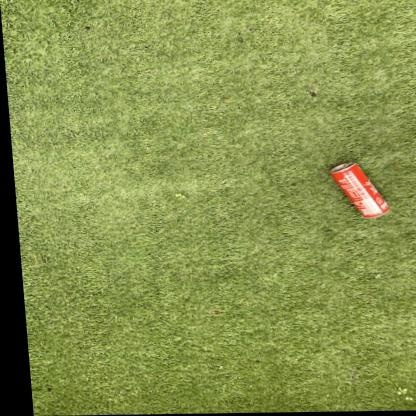trash: (330, 163, 388, 217)
